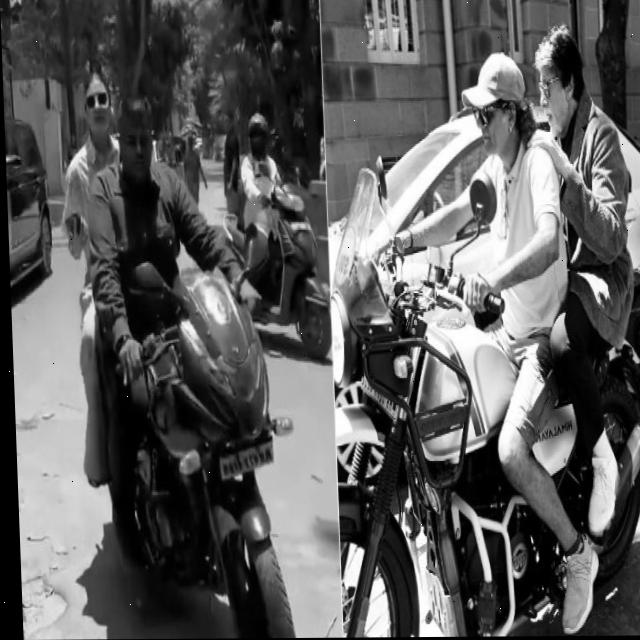without helmet: (529, 21, 588, 143), (471, 40, 525, 162), (107, 83, 159, 200), (75, 54, 115, 147)
